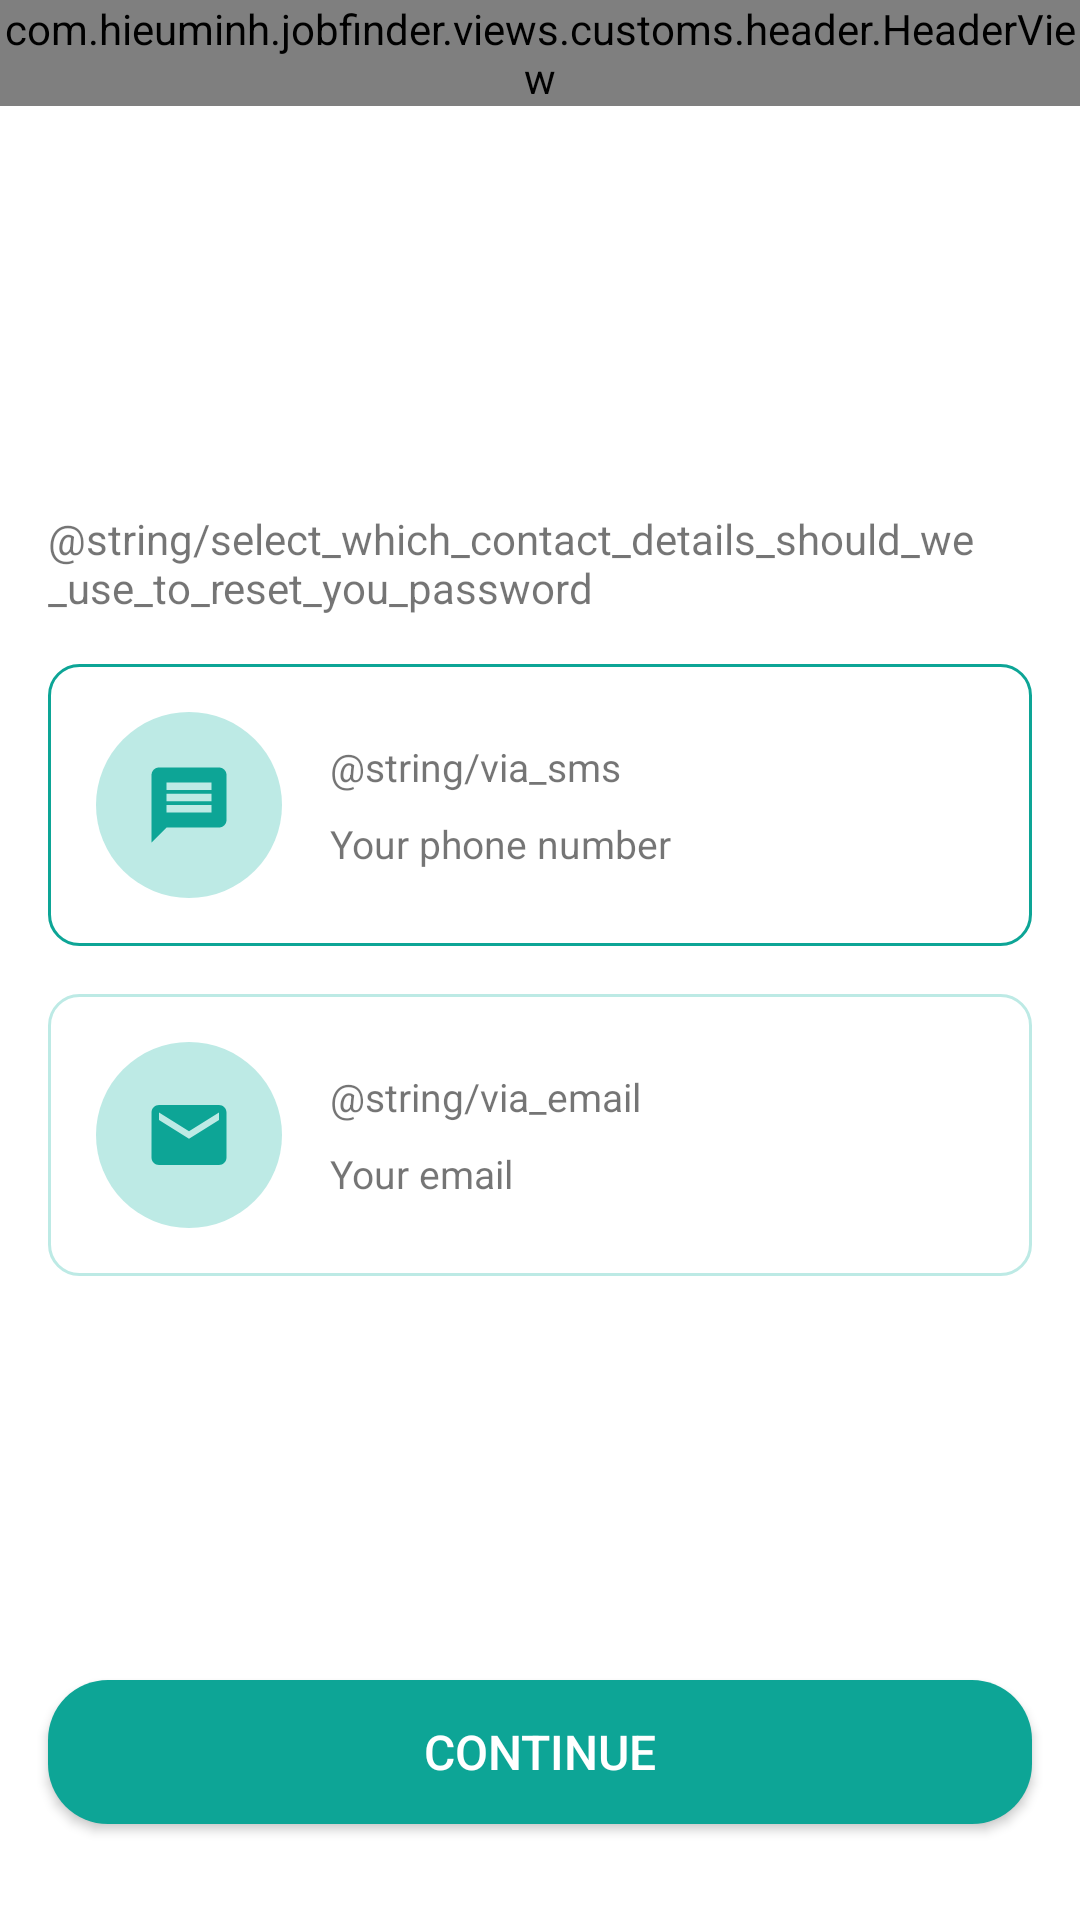

Named icons in this screenshot (1080px x 1920px) and their centers, [x,y]:
message: [189,805]
